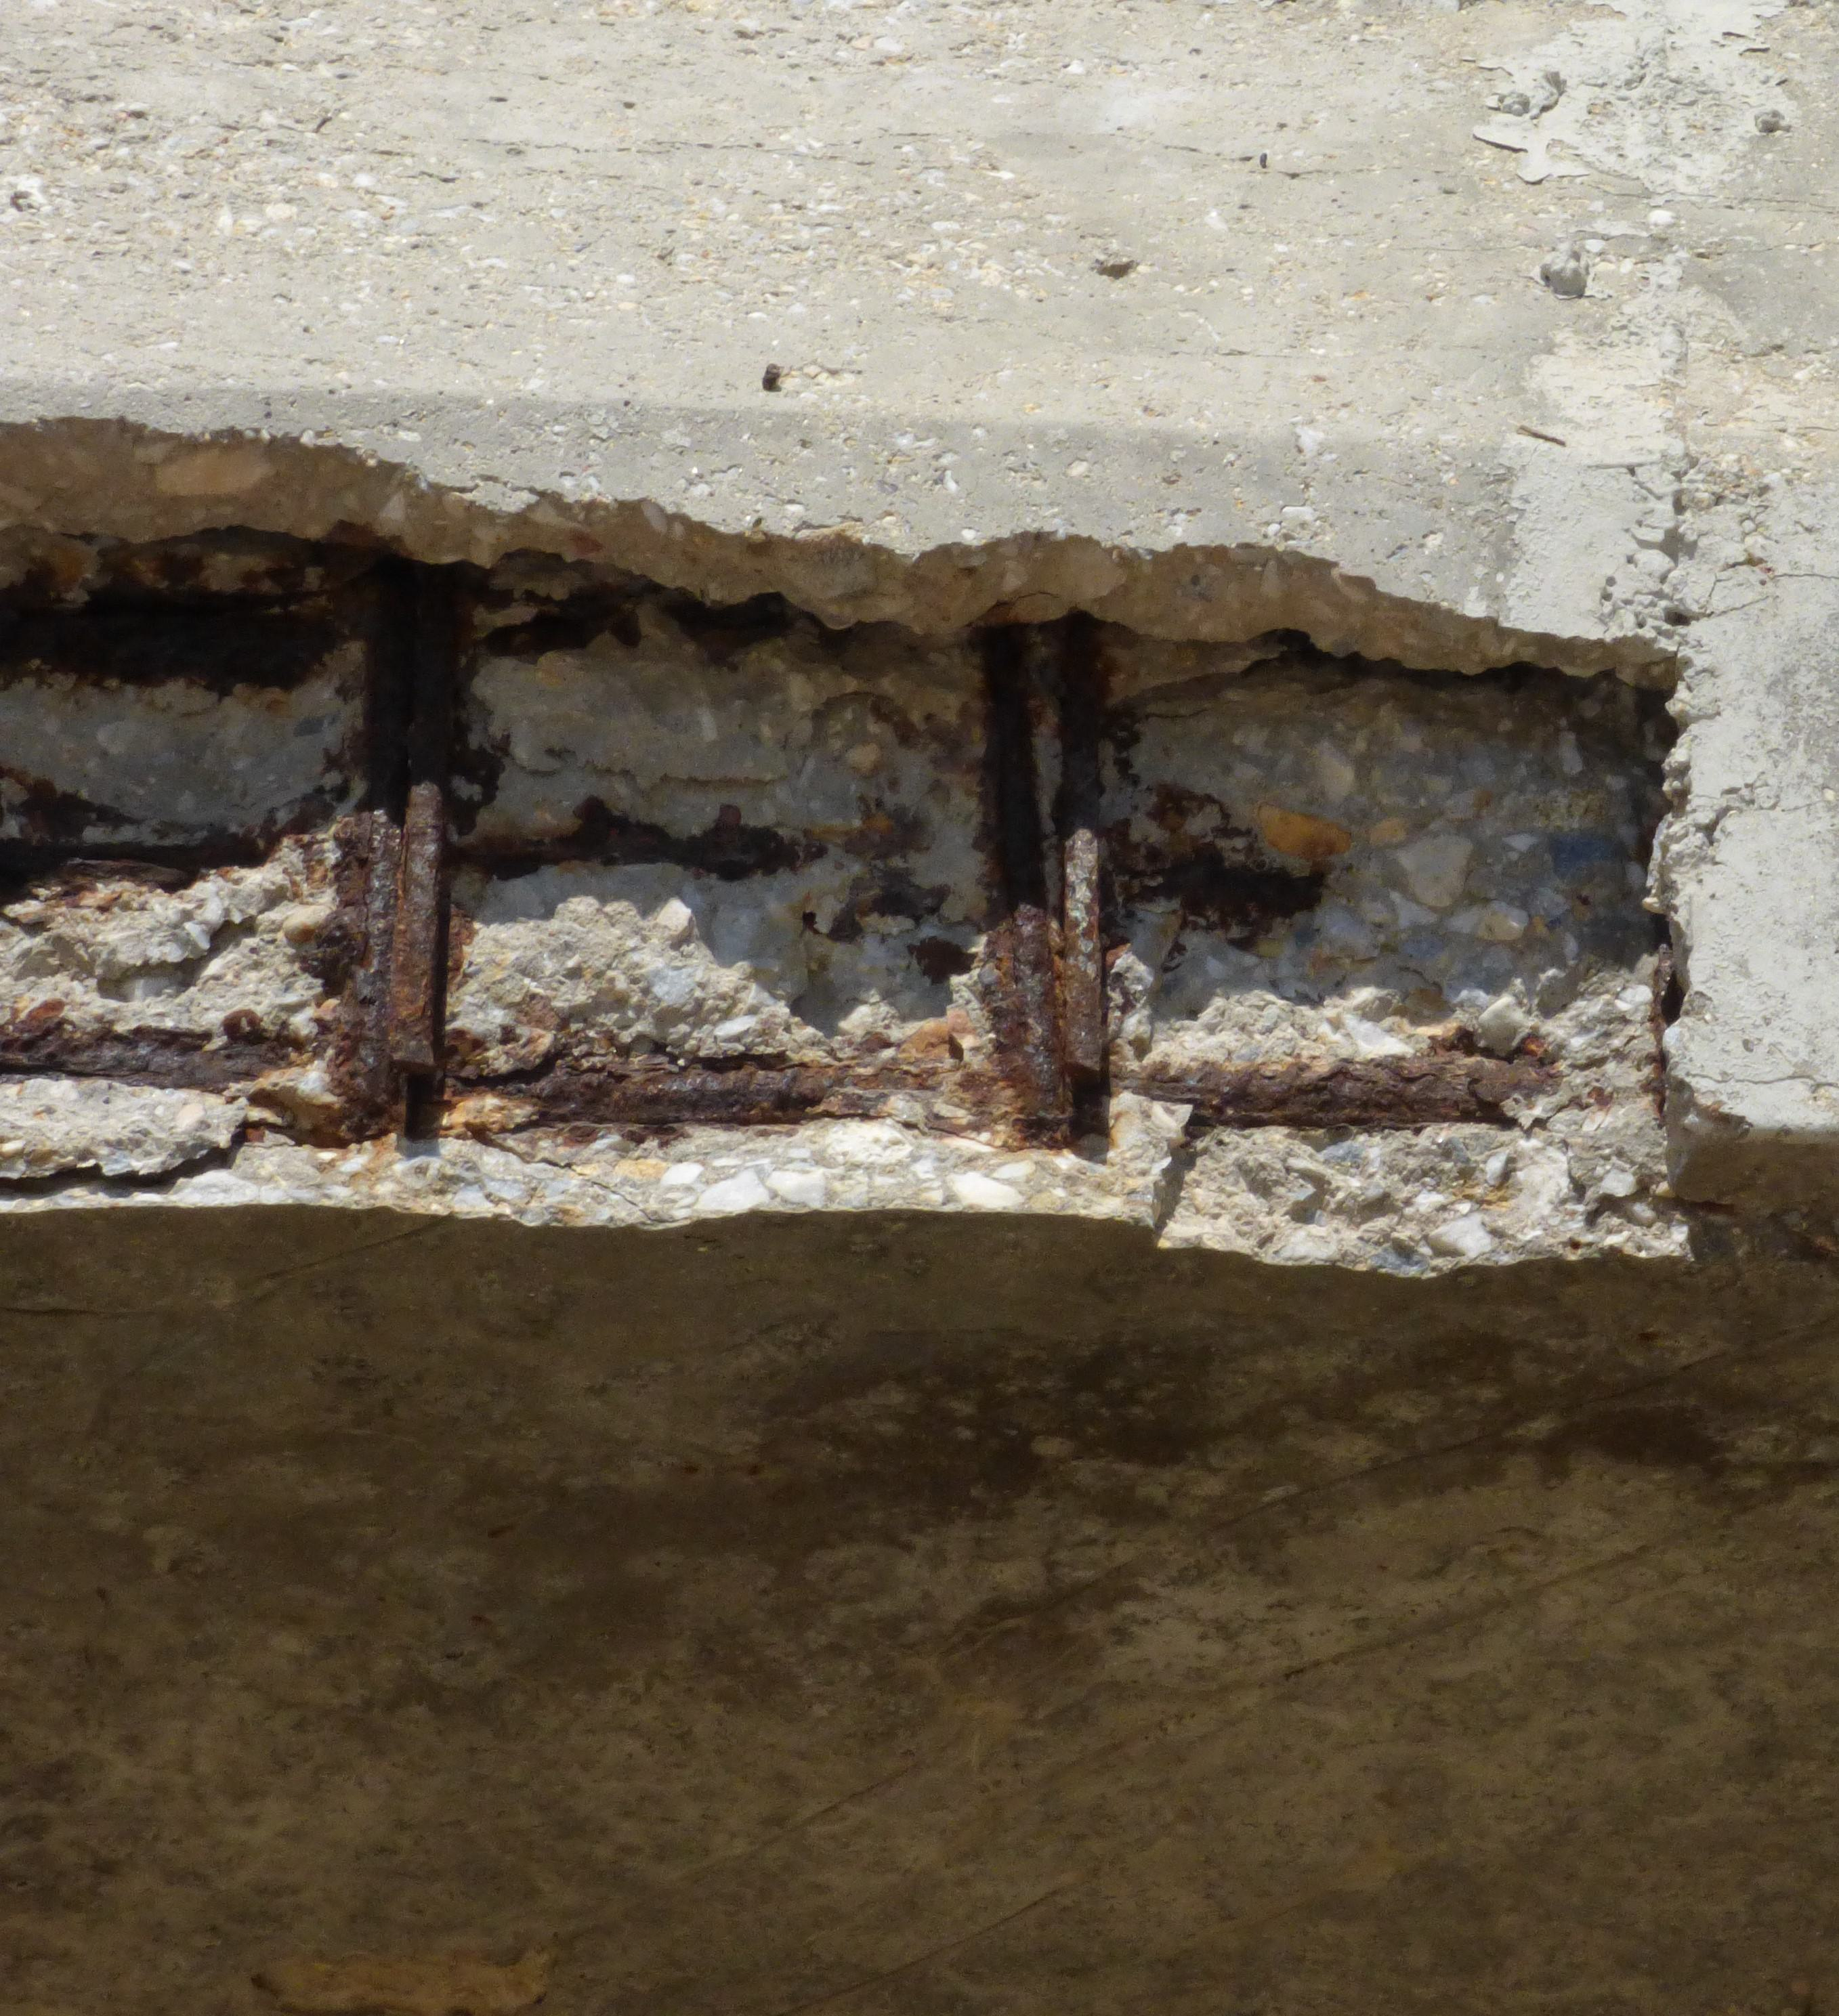Corrosion: (1119, 781, 1326, 954), (799, 792, 982, 985), (481, 588, 643, 660), (669, 590, 783, 664)
Exposed reinforcement: (987, 627, 1075, 1122), (353, 567, 420, 1110), (385, 576, 457, 1069), (1131, 1055, 1551, 1131), (443, 1064, 940, 1126), (1059, 615, 1103, 1071), (0, 1040, 276, 1092), (0, 832, 267, 871), (458, 845, 776, 871)
Spalling: (0, 414, 1691, 1277)
